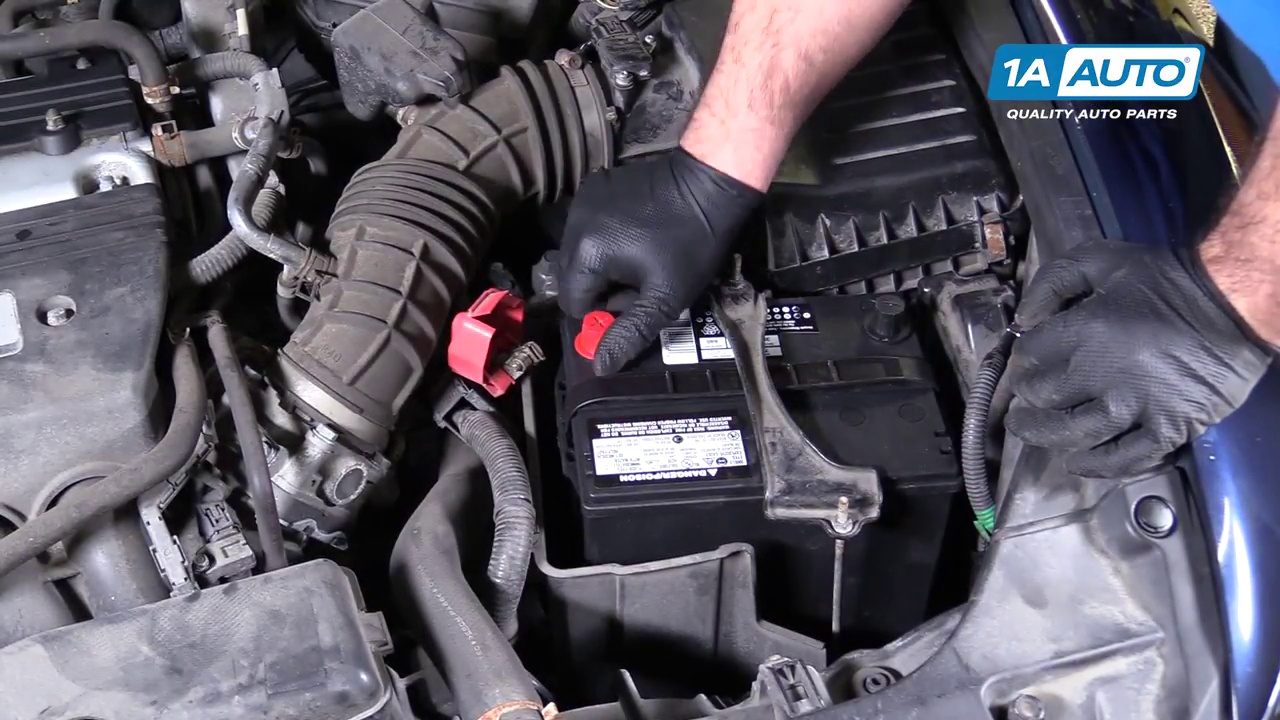battery: (555, 276, 947, 486)
pos_disconnected: (443, 252, 640, 394)
pos_touched: (442, 185, 700, 390)
